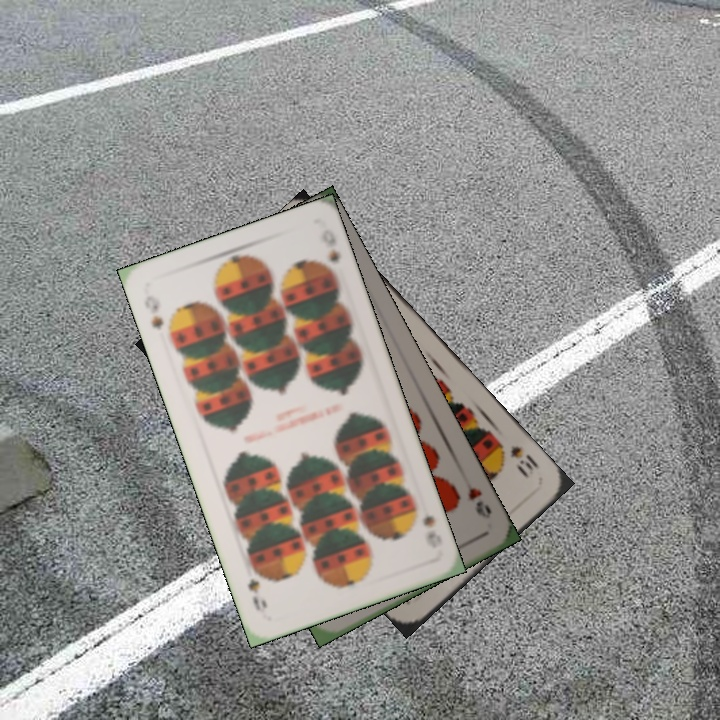H9: (464, 483, 494, 522)
S10: (506, 440, 541, 481)
S9: (140, 291, 166, 333), (407, 499, 438, 530)
